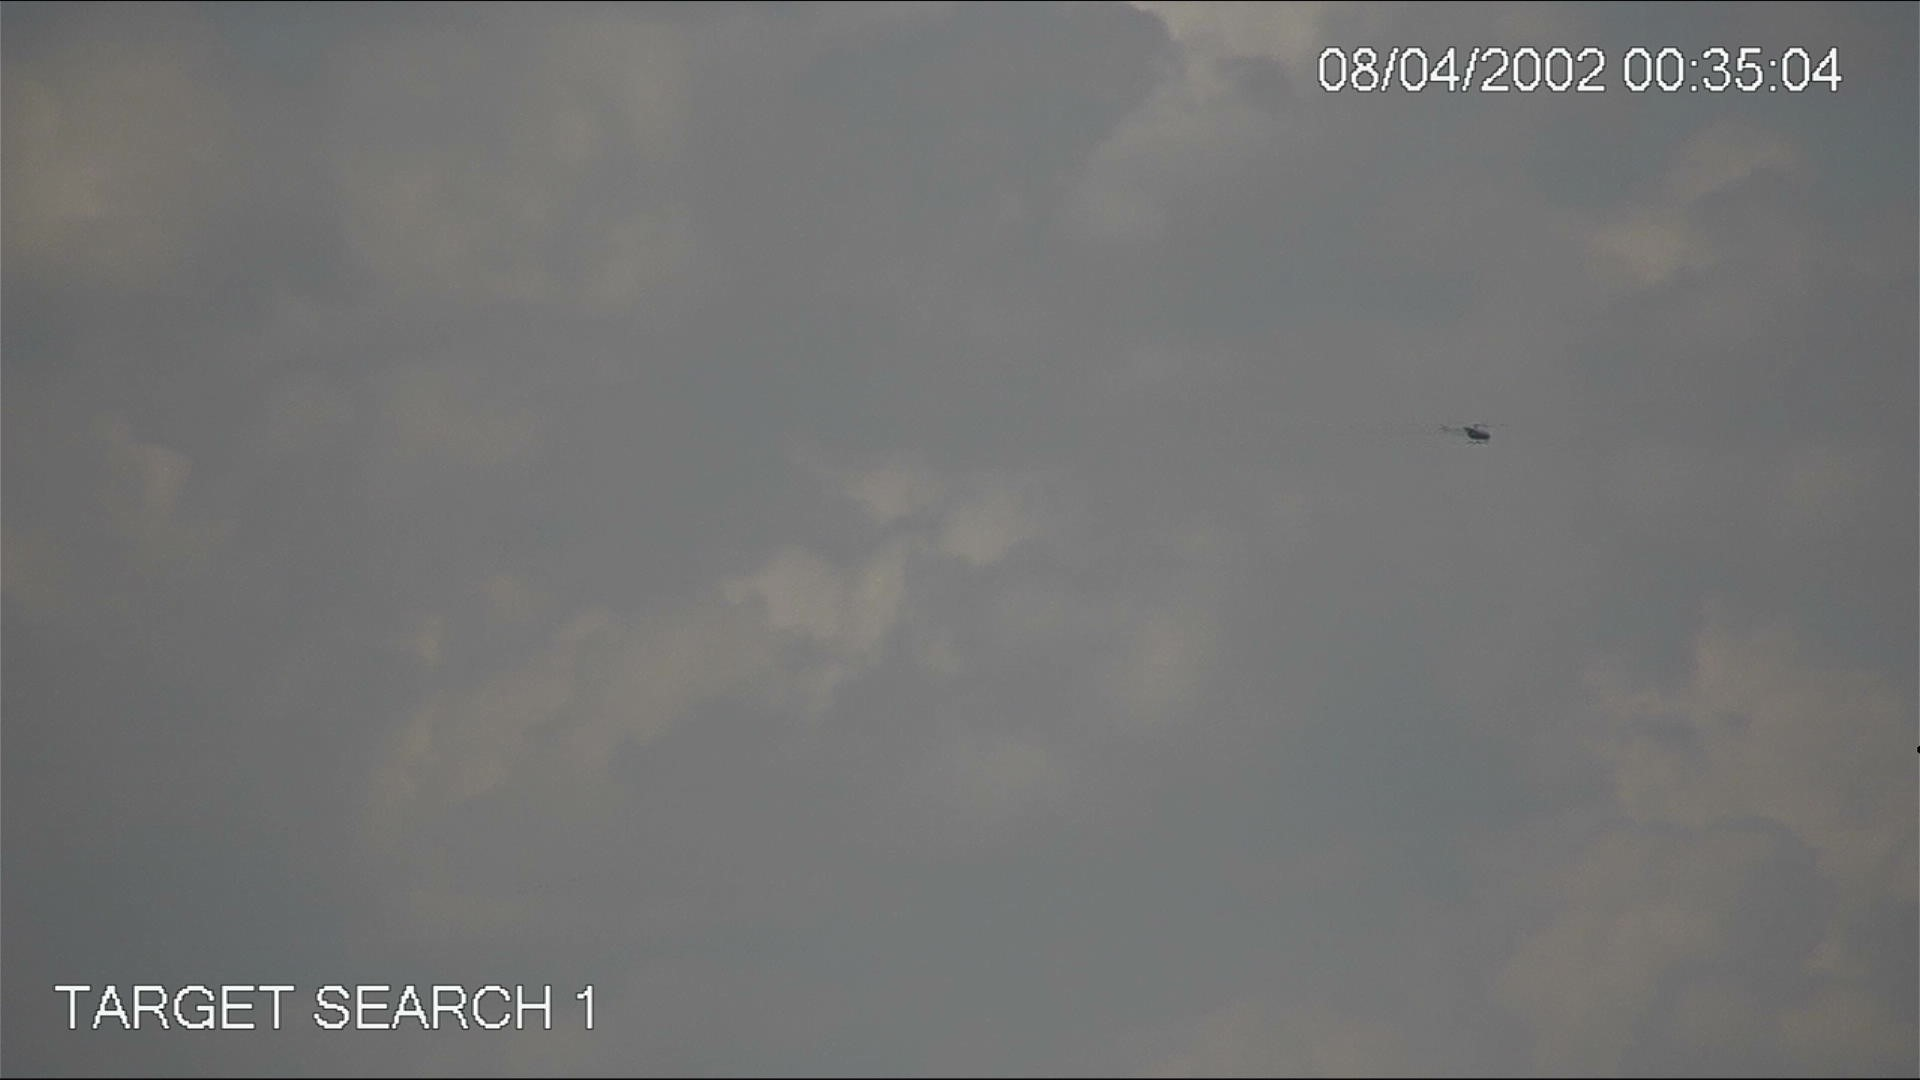SU_30: (1444, 414, 1502, 454)
